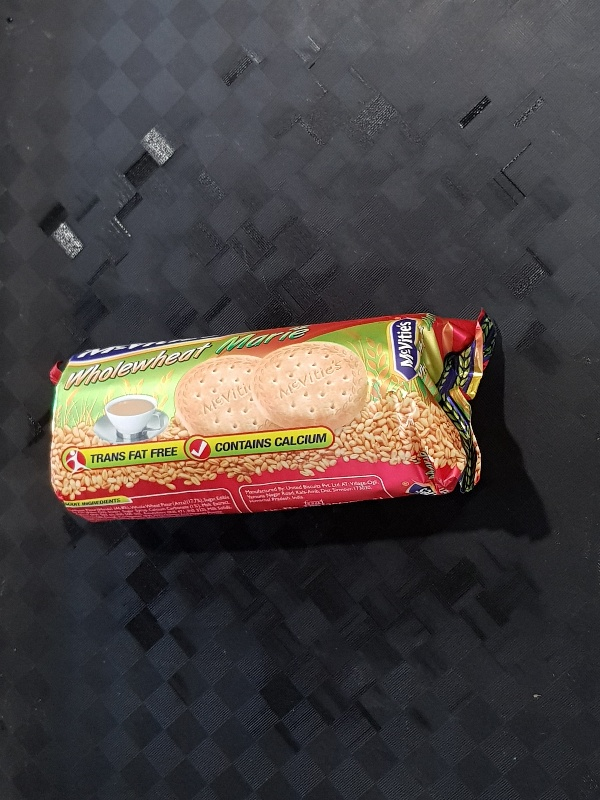McVitie's Wholewheat Marie: (45, 312, 495, 524)
